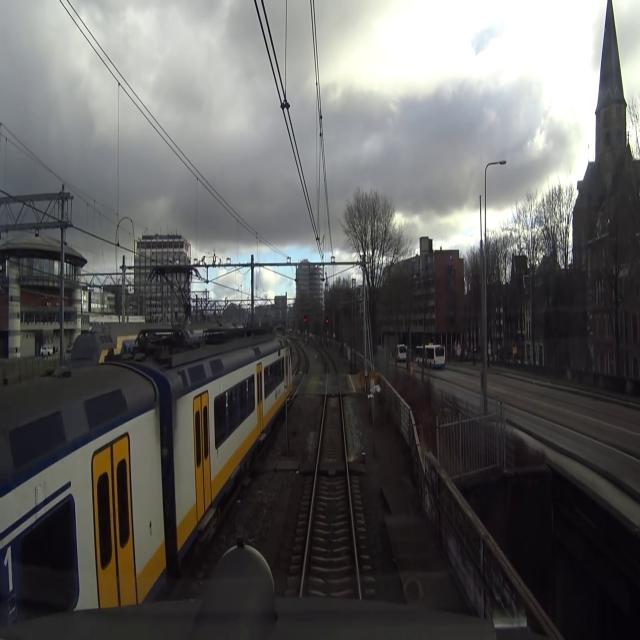rail-track: (304, 356, 356, 588), (292, 347, 305, 391)
